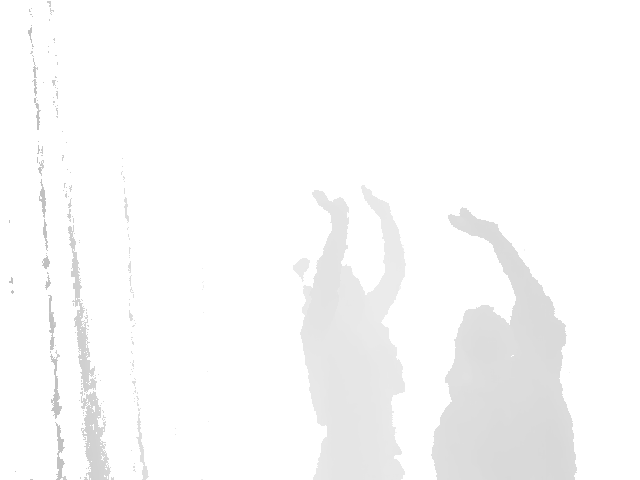hand: (447, 207, 503, 237), (312, 189, 350, 222), (360, 185, 393, 218)
head: (449, 306, 516, 386), (292, 258, 366, 315)
person: (429, 207, 576, 480), (292, 185, 406, 480)
